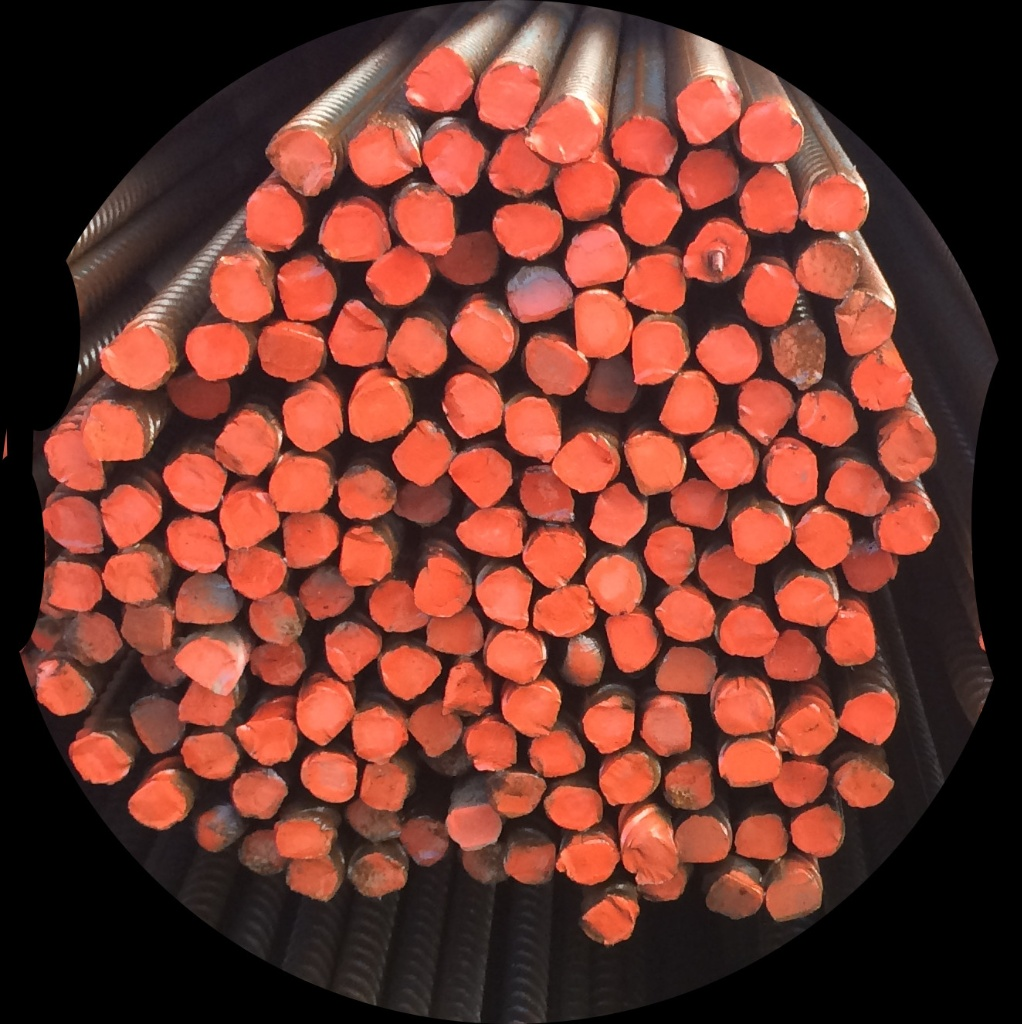dipstick: (266, 126, 337, 195), (529, 95, 602, 161), (406, 45, 473, 114), (452, 301, 516, 373), (349, 124, 422, 185), (478, 59, 541, 128), (99, 328, 169, 390), (349, 371, 411, 441), (676, 77, 741, 143), (739, 101, 804, 165), (423, 130, 486, 196), (210, 258, 274, 322), (612, 114, 677, 177), (489, 131, 551, 197), (319, 204, 391, 260), (574, 290, 633, 358), (554, 160, 617, 223), (554, 433, 620, 493), (621, 179, 681, 245), (245, 183, 304, 250), (506, 266, 574, 324), (493, 203, 562, 260), (283, 386, 343, 451), (443, 374, 503, 439), (684, 223, 749, 283), (103, 546, 171, 603), (741, 167, 798, 235), (803, 172, 867, 232), (259, 322, 325, 380), (45, 430, 106, 492), (395, 192, 455, 255), (217, 412, 276, 476), (525, 336, 589, 395), (279, 257, 337, 322), (880, 414, 935, 482), (40, 496, 102, 556), (836, 292, 896, 354), (331, 300, 387, 366), (451, 447, 512, 507), (797, 240, 860, 298), (692, 433, 756, 490), (387, 317, 447, 377), (566, 226, 627, 285), (102, 485, 160, 547), (739, 380, 796, 443), (396, 422, 452, 486), (771, 322, 826, 387), (679, 148, 738, 208), (34, 660, 95, 718), (414, 558, 472, 619), (624, 434, 685, 492), (590, 483, 646, 546), (476, 566, 531, 630), (176, 639, 245, 690), (454, 509, 523, 560), (83, 403, 144, 460), (367, 249, 429, 305), (507, 397, 561, 461), (165, 454, 223, 513), (221, 491, 280, 549), (798, 390, 858, 447), (699, 541, 756, 601), (523, 531, 585, 586), (794, 511, 851, 570), (627, 253, 684, 312), (852, 354, 912, 410), (587, 553, 642, 614), (662, 373, 717, 434), (185, 325, 247, 379), (436, 232, 499, 285), (774, 575, 838, 627), (766, 443, 818, 507), (745, 262, 796, 327), (281, 512, 340, 568), (325, 621, 380, 681), (828, 462, 888, 517), (61, 612, 122, 666), (271, 459, 333, 512), (167, 516, 224, 573), (296, 685, 352, 743), (633, 322, 689, 380), (732, 508, 791, 563), (777, 704, 837, 758), (697, 327, 757, 381), (380, 646, 441, 699), (557, 833, 619, 885), (644, 525, 695, 588), (130, 696, 185, 754), (715, 682, 773, 737), (840, 691, 898, 746), (501, 682, 560, 736), (487, 631, 547, 684), (605, 614, 658, 674), (352, 706, 407, 763), (339, 467, 397, 521), (537, 585, 595, 639), (841, 536, 895, 594), (70, 733, 131, 784), (177, 573, 239, 623), (521, 465, 576, 521), (600, 753, 661, 803), (719, 739, 781, 788), (878, 504, 937, 555), (580, 894, 640, 944), (656, 590, 714, 641), (720, 605, 778, 656), (43, 561, 102, 611), (225, 549, 285, 598), (790, 803, 844, 857), (663, 756, 716, 811), (622, 832, 678, 884), (584, 697, 636, 753), (300, 752, 357, 803), (656, 646, 716, 694), (766, 870, 821, 922), (341, 528, 391, 585), (825, 610, 875, 667), (128, 782, 187, 830), (765, 630, 820, 681), (641, 699, 691, 755), (837, 761, 895, 809), (348, 852, 407, 899), (373, 582, 426, 634), (236, 721, 297, 766), (707, 872, 763, 921), (506, 828, 554, 885), (250, 594, 304, 644), (589, 360, 639, 414), (672, 481, 727, 530), (773, 760, 830, 807), (167, 376, 229, 419), (301, 569, 354, 619), (409, 700, 459, 753), (676, 816, 730, 865), (182, 733, 238, 780), (235, 768, 286, 819), (445, 662, 492, 717), (546, 785, 602, 831), (530, 730, 586, 776), (426, 611, 483, 655), (122, 605, 173, 654), (735, 814, 788, 860), (397, 484, 452, 528), (196, 805, 247, 852), (180, 682, 236, 724), (360, 763, 409, 811), (467, 723, 517, 770), (448, 804, 501, 848), (347, 800, 401, 843), (490, 775, 544, 817), (402, 815, 447, 865), (286, 857, 338, 900), (252, 644, 304, 687), (276, 820, 332, 859), (561, 635, 603, 686), (239, 830, 281, 876), (462, 847, 505, 887), (637, 870, 688, 901), (141, 654, 185, 688)
